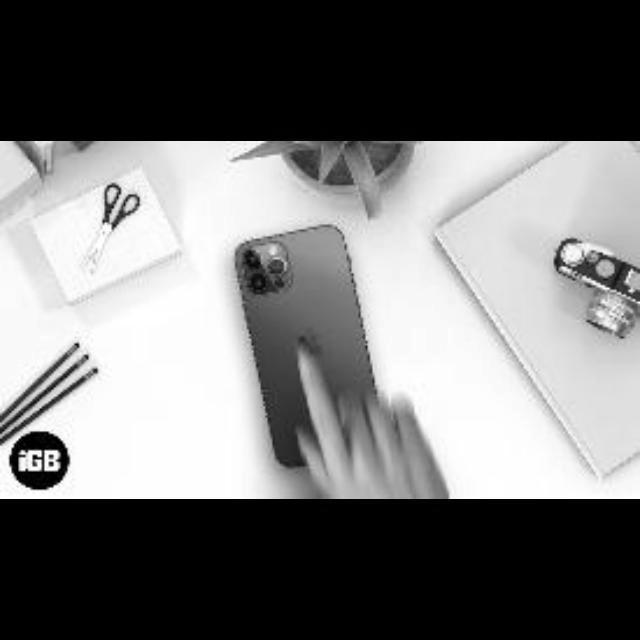fake: (221, 208, 416, 490)
